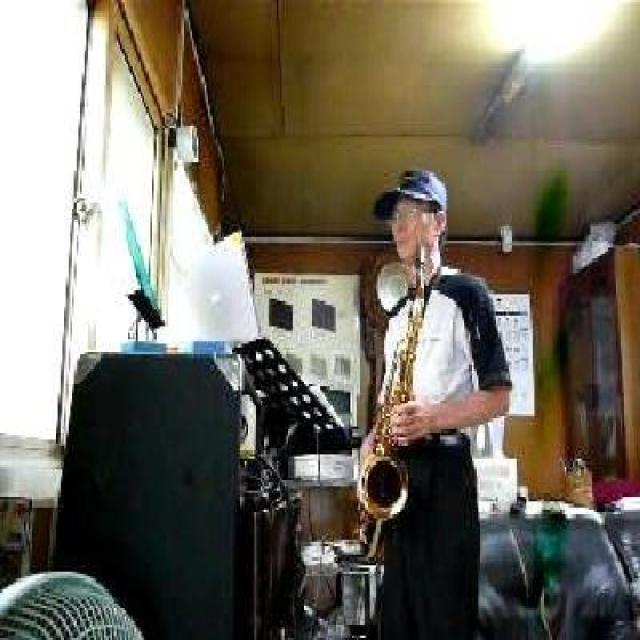saxophone: (355, 241, 433, 524)
